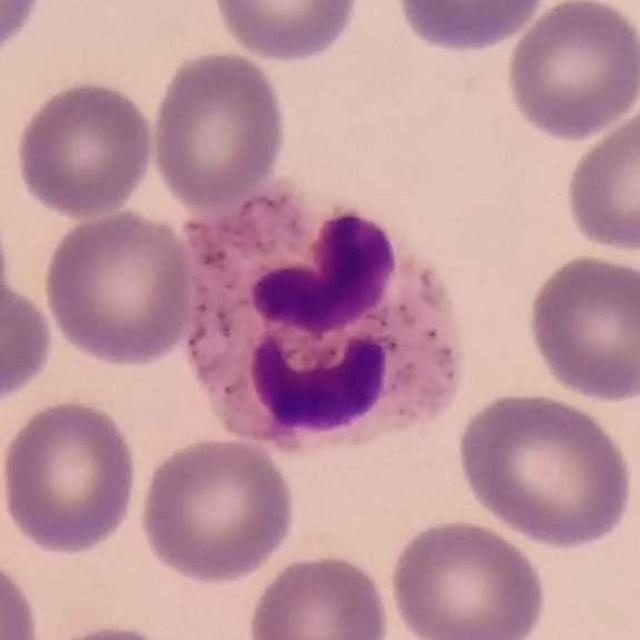Neutrophil: (169, 193, 484, 464)
RBC: (452, 387, 638, 550), (40, 204, 200, 370), (135, 433, 299, 587), (148, 47, 291, 211), (0, 393, 141, 557), (11, 77, 158, 220), (385, 514, 551, 640), (501, 0, 640, 142), (522, 251, 640, 405), (243, 548, 394, 640), (561, 100, 640, 257), (208, 0, 364, 66), (391, 0, 552, 56), (0, 272, 57, 409), (0, 553, 43, 640), (30, 620, 189, 640), (0, 0, 50, 61), (0, 199, 14, 356)
